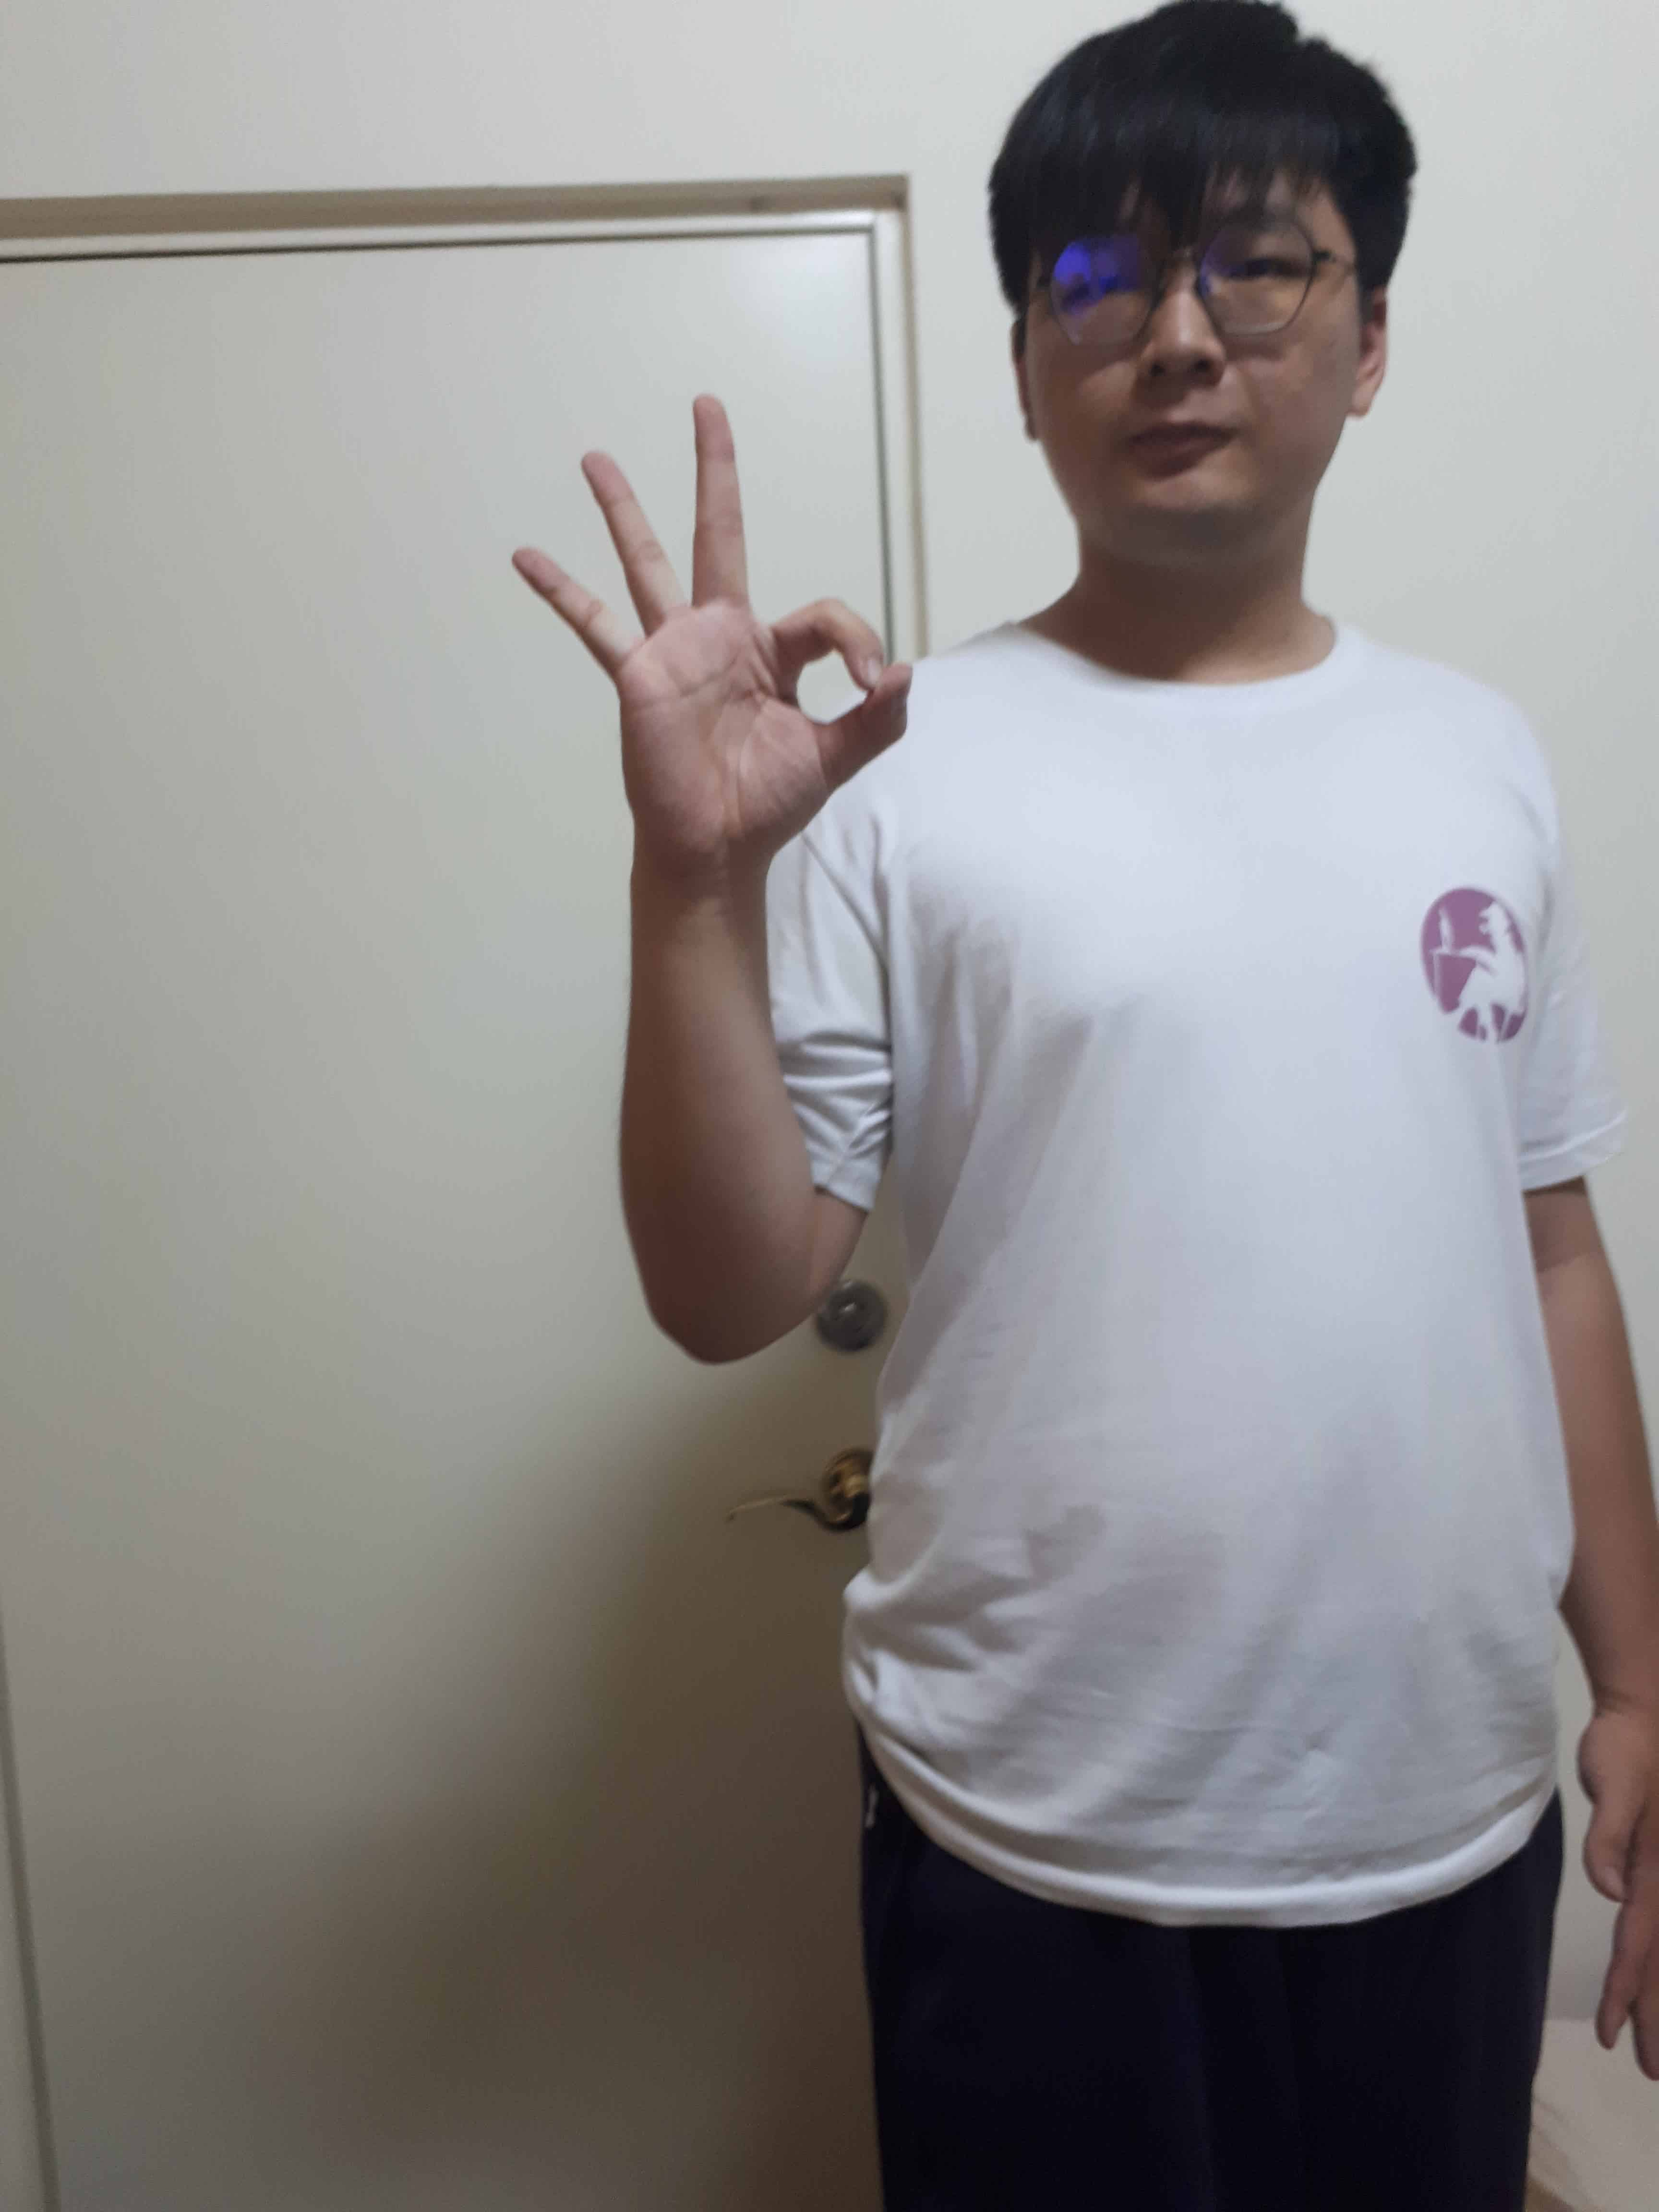ok: (504, 376, 929, 899)
